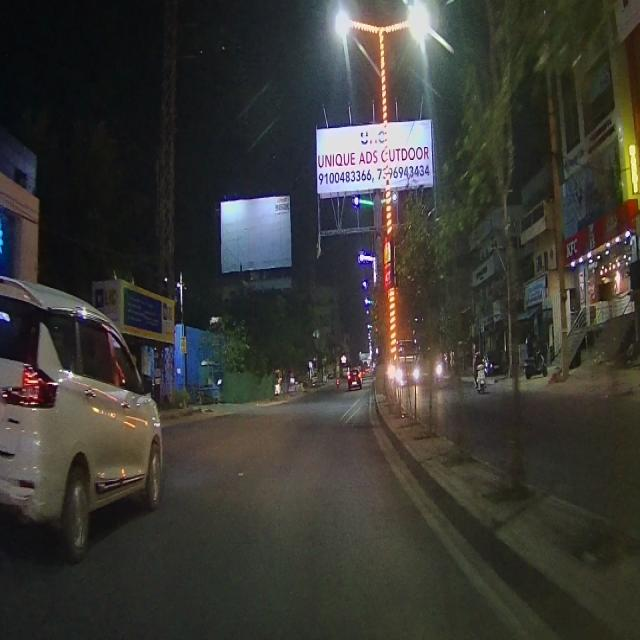car ahead at: (0, 261, 166, 565)
